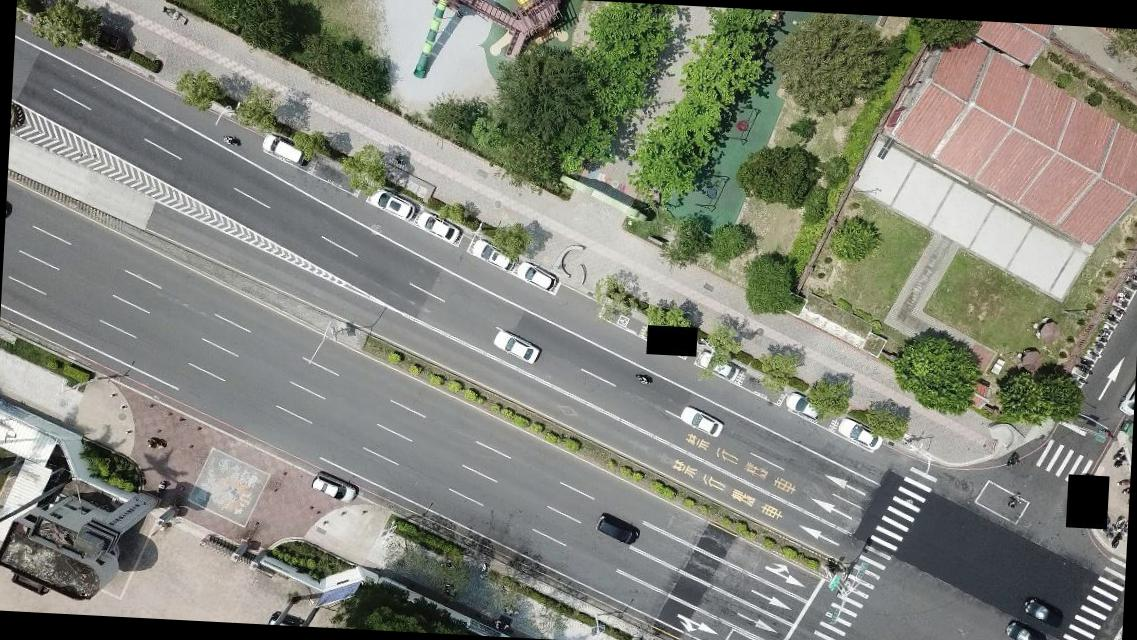vehicle: (834, 416, 884, 451), (492, 330, 542, 364), (470, 238, 518, 273), (416, 209, 462, 244), (368, 188, 416, 220), (678, 405, 724, 438), (593, 513, 639, 545), (311, 471, 356, 503), (261, 134, 303, 165), (514, 261, 556, 291), (1022, 596, 1062, 627), (699, 352, 739, 382), (786, 392, 822, 420), (1003, 620, 1049, 639)
